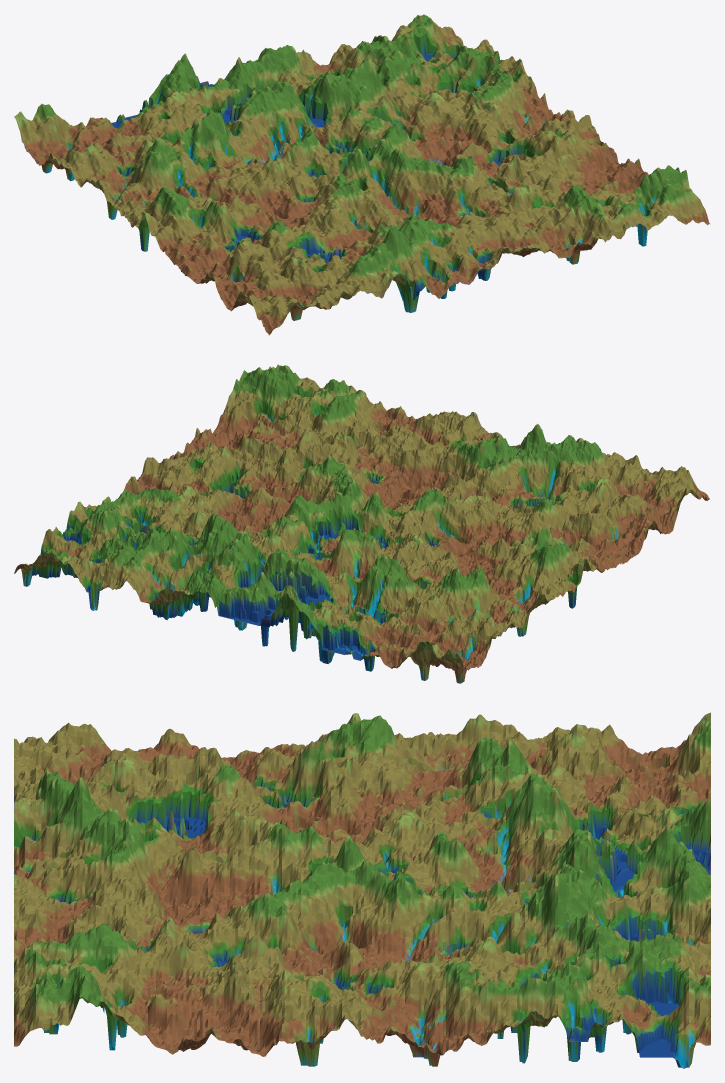
File: landscape_ARCHIPELAGO_v1.obj
3 renders of one model, top to bottom at view 1: azimuth 30°, elevation 25°; view 2: azimuth 150°, elevation 25°; view 3: azimuth 270°, elevation 25°, orthographic. The views are drawn at different scales.
Parts seen in each view (by area): view 1: terrain_ARCHIPELAGO; view 2: terrain_ARCHIPELAGO; view 3: terrain_ARCHIPELAGO.
Part boxes in pixels (x1,y1,x2,y2): terrain_ARCHIPELAGO: (14, 14, 710, 335); terrain_ARCHIPELAGO: (14, 364, 709, 683); terrain_ARCHIPELAGO: (14, 712, 710, 1068).
Bounding box in the file's own units: 255 × 39.88 × 255.
1 material, 1 textured.
